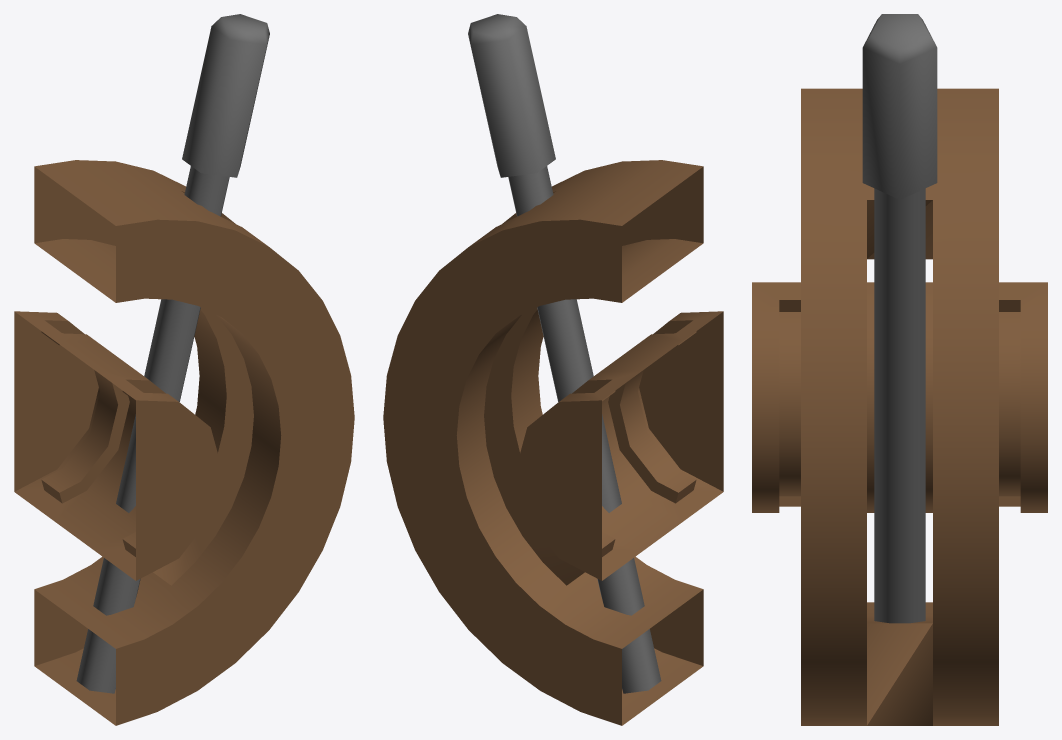
The model's file is PalancaV1fbx.fbx.
3 renders of one model, left to right at view 1: azimuth 30°, elevation 25°; view 2: azimuth 150°, elevation 25°; view 3: azimuth 270°, elevation 25°, orthographic. The views are drawn at different scales.
Parts seen in each view (by area): view 1: Body, Handle; view 2: Body, Handle; view 3: Body, Handle.
Boxes of the visible parts, box(x1,y1,x2,y2) form: Body: box(14, 160, 354, 725); Handle: box(76, 14, 269, 693); Body: box(383, 160, 723, 725); Handle: box(468, 14, 661, 693); Body: box(752, 88, 1047, 725); Handle: box(862, 14, 937, 623).
Size of the model in its own units: 311 by 792 by 274.
